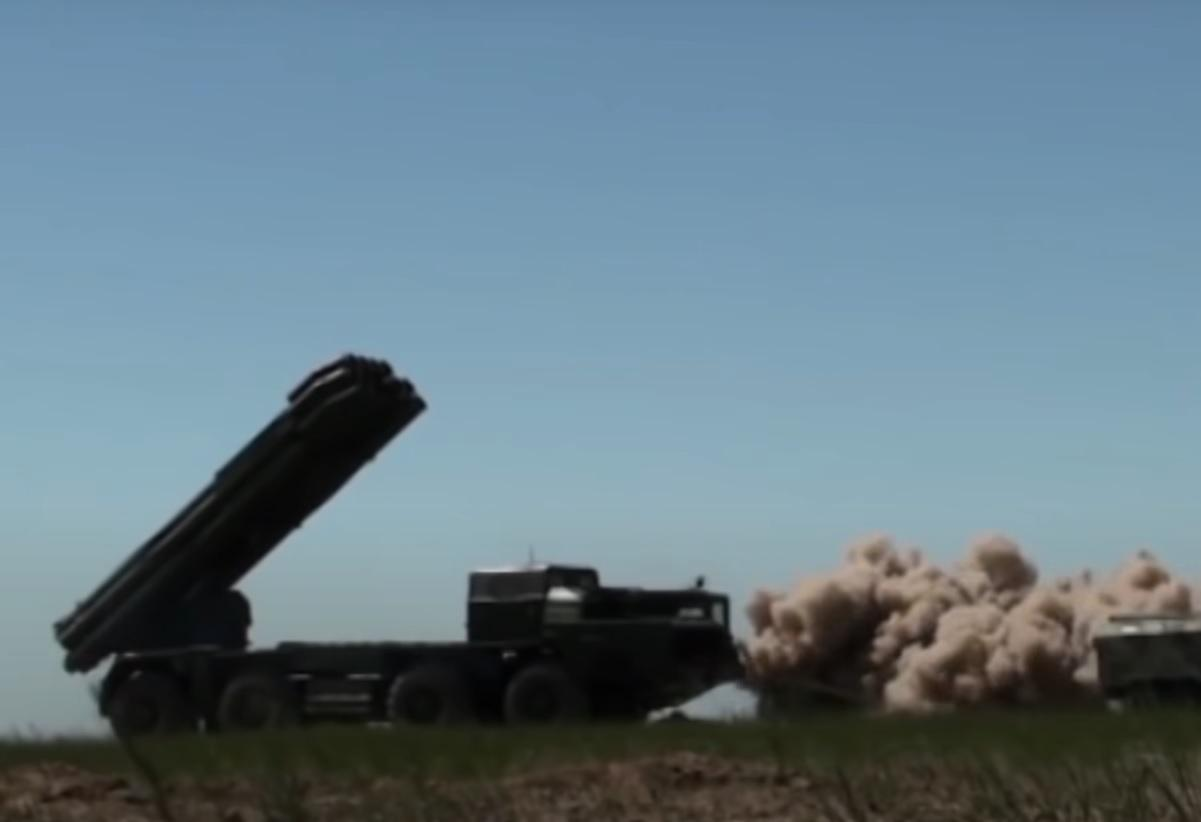MIL_SAM_TEL: (47, 344, 748, 742)
